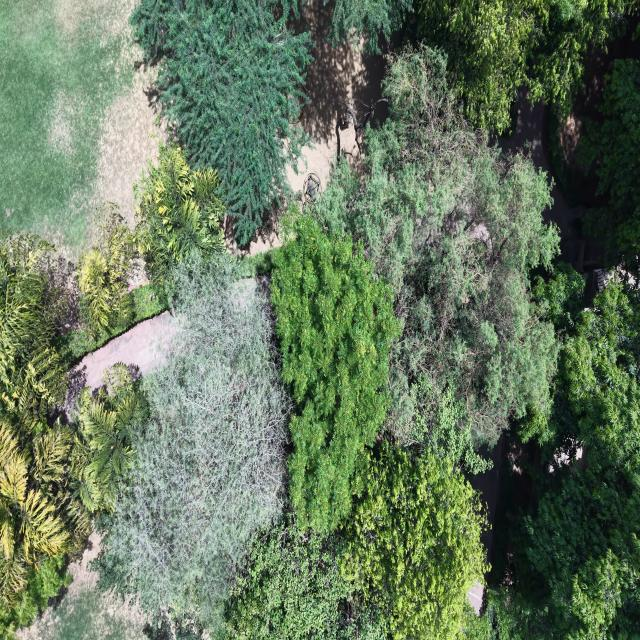DRY_AREA: (0, 0, 166, 260), (0, 0, 163, 260), (287, 0, 385, 193), (288, 0, 385, 191), (289, 0, 384, 191), (289, 0, 383, 191), (16, 534, 147, 639), (17, 534, 146, 639), (18, 535, 145, 639), (72, 312, 177, 389), (544, 182, 601, 299), (499, 91, 551, 179)
VEGETATION_TREE: (0, 0, 639, 639), (98, 48, 558, 637), (2, 214, 482, 639), (97, 212, 485, 639), (0, 145, 224, 634), (314, 46, 559, 470), (99, 255, 290, 629), (481, 266, 639, 637), (226, 442, 486, 639), (0, 234, 115, 637), (131, 0, 311, 245), (521, 283, 639, 637), (271, 212, 399, 532), (332, 0, 636, 133), (0, 365, 145, 637), (55, 142, 225, 363), (0, 0, 139, 261), (0, 205, 167, 416), (0, 234, 88, 607), (417, 0, 635, 133), (342, 441, 487, 639), (527, 267, 639, 470), (0, 416, 91, 637), (226, 515, 385, 639), (523, 468, 639, 637), (417, 0, 551, 133), (0, 418, 90, 609), (135, 142, 225, 297), (16, 563, 196, 639), (0, 232, 65, 432), (581, 59, 639, 279), (71, 363, 148, 513), (53, 285, 168, 365), (410, 379, 491, 473), (78, 204, 135, 336), (0, 554, 70, 639), (463, 587, 549, 639), (331, 0, 413, 53), (532, 260, 584, 338), (546, 110, 583, 205), (144, 612, 203, 639), (239, 248, 279, 277)
